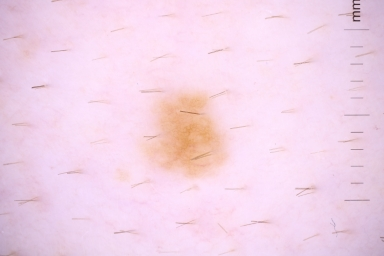melanoma: (143, 95, 225, 175)
